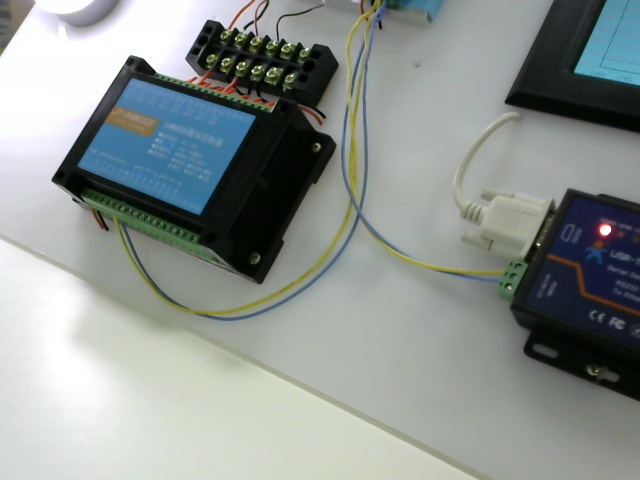relay: (41, 82, 354, 290)
